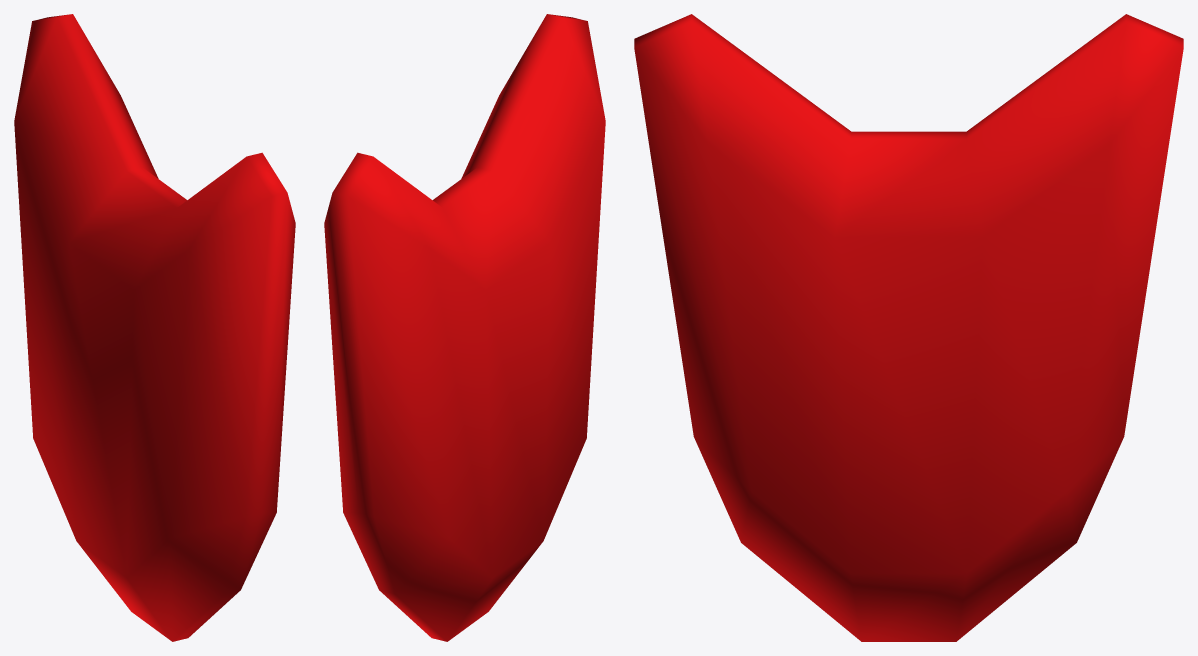
File: thermostatButtonDown.glb
3 renders of one model, left to right at view 1: azimuth 30°, elevation 25°; view 2: azimuth 150°, elevation 25°; view 3: azimuth 270°, elevation 25°, orthographic. The views are drawn at different scales.
Parts seen in each view (by area): view 1: thermostat button down; view 2: thermostat button down; view 3: thermostat button down.
Part boxes in pixels (left/top/right/bottom): thermostat button down: left=14, top=14, right=295, bottom=641; thermostat button down: left=324, top=14, right=605, bottom=641; thermostat button down: left=634, top=14, right=1183, bottom=641.
Size of the model in its own units: 0.00566 by 0.0274 by 0.022.
